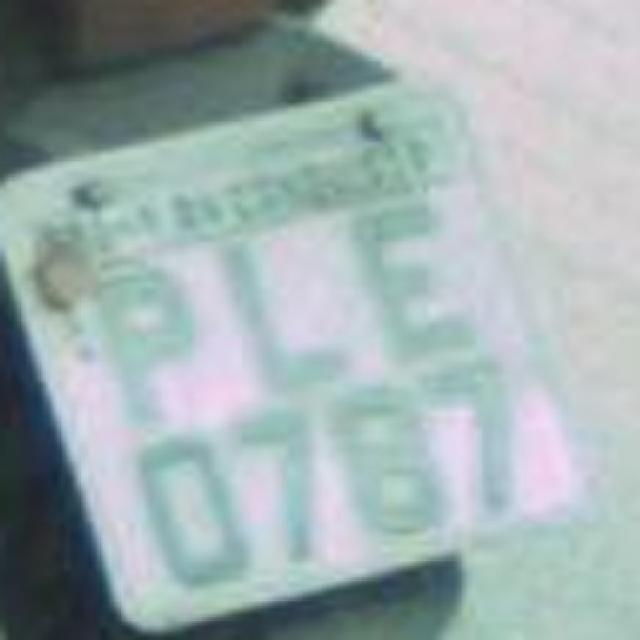0: (116, 409, 269, 616)
7: (416, 344, 552, 516), (220, 396, 352, 572)
J: (200, 211, 348, 404)
P: (76, 244, 209, 428)
